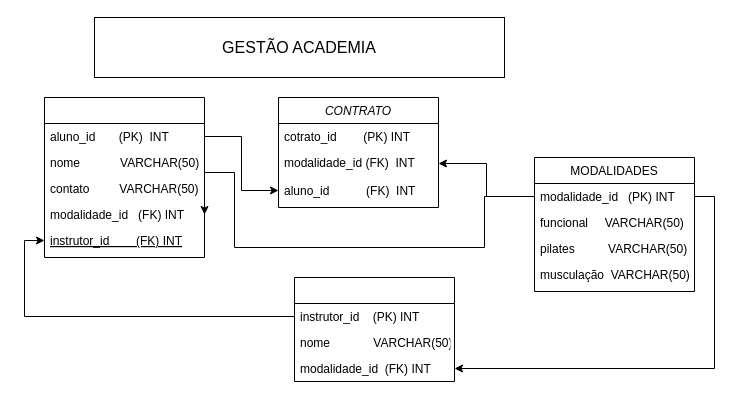
The diagram is 740 pixels wide and 402 high, and some of its shapes have lost their labels. Here are the shapes that lost their labels. From the top down, the box of each, then its label:
(44, 96, 204, 258): ALUNOS
(294, 276, 454, 382): INSTRUTORES
